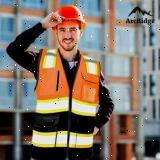Helmet: (50, 5, 87, 32)
Vest: (34, 47, 101, 160)
